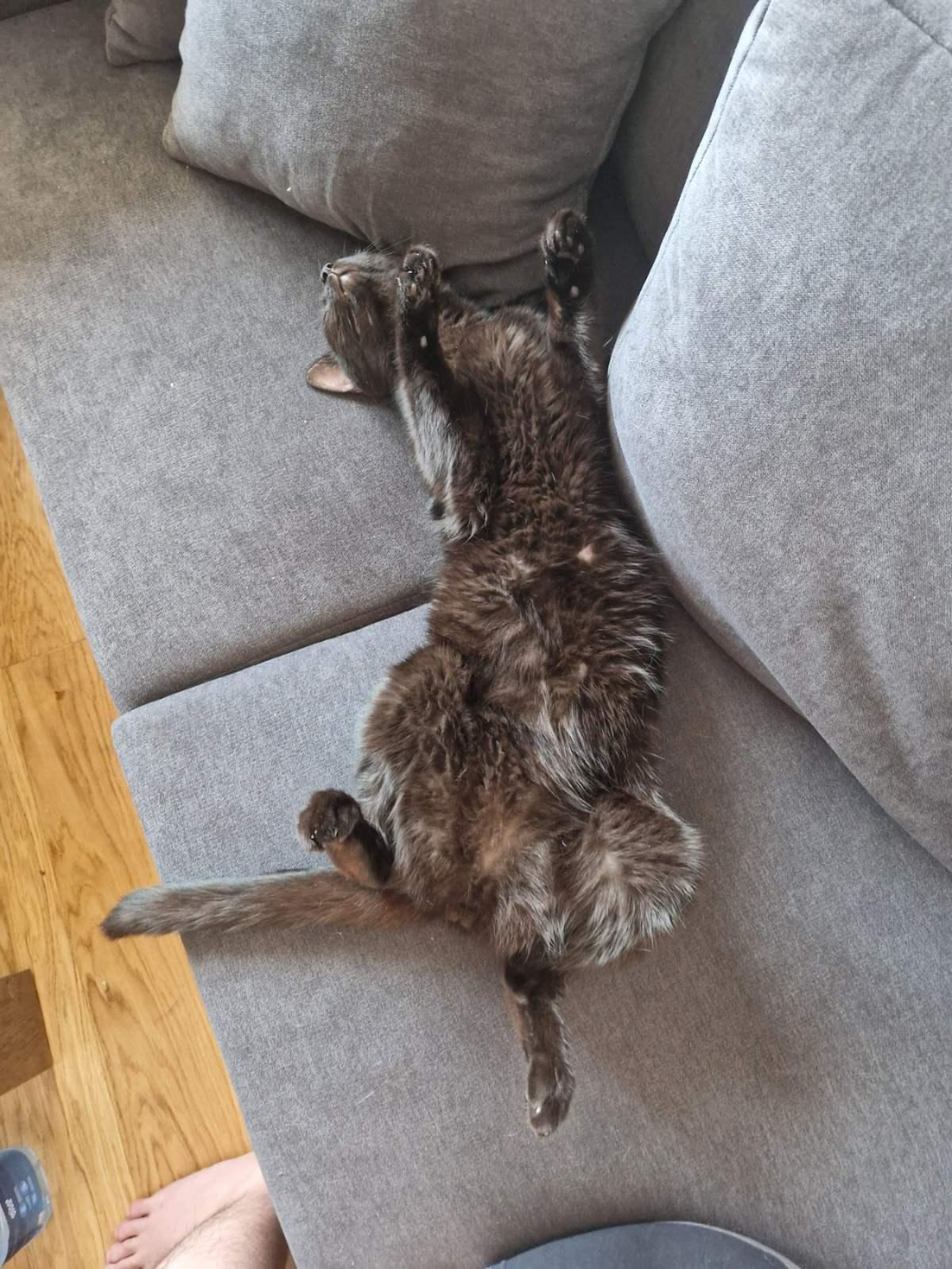macka: (103, 199, 710, 1134)
